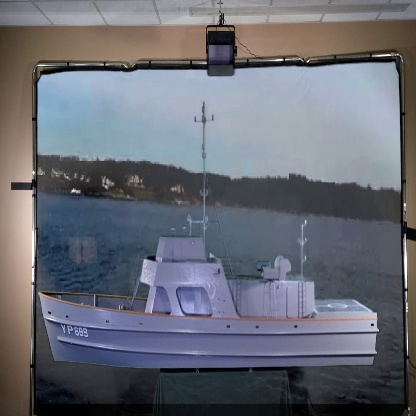YP689: (36, 85, 382, 378)
